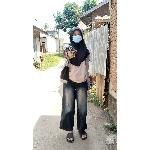Senapan: (64, 42, 82, 60)
